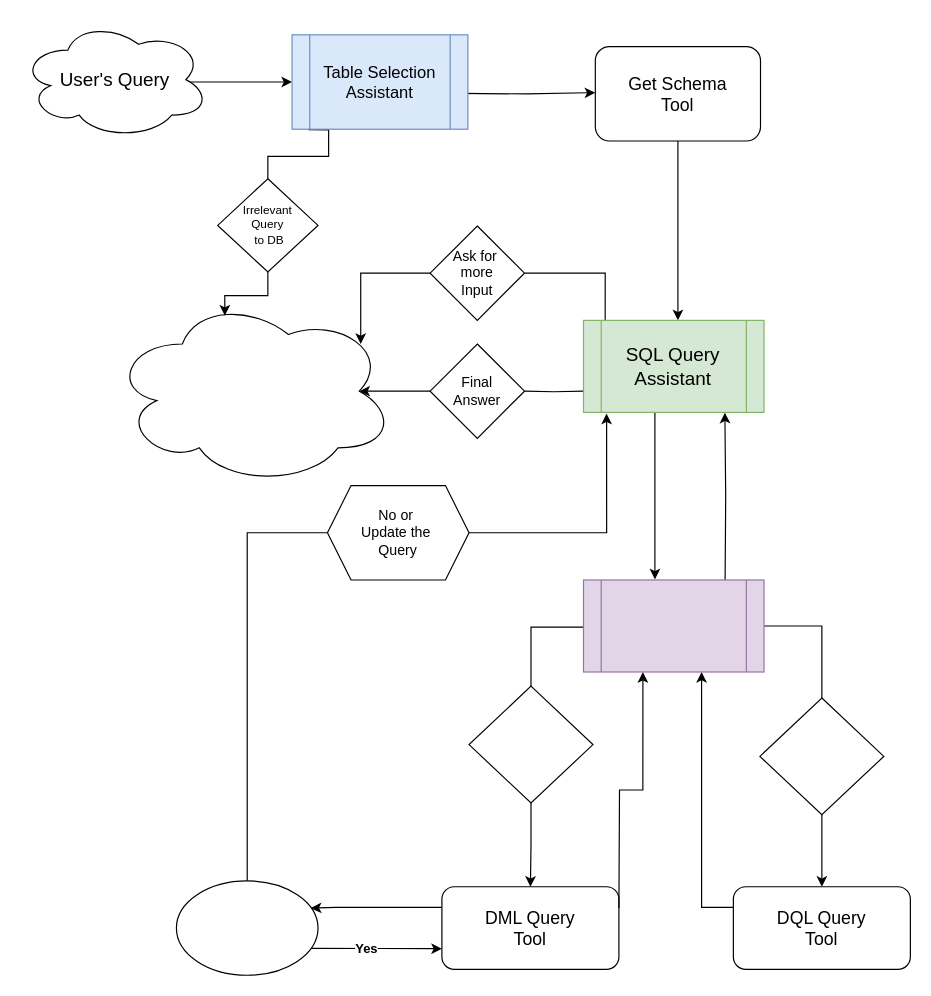
Some shapes in this 931 by 996 pixel diagram are drawn without their labels. The centre of each missing label's shape, as x and y in pixels:
Examine Query Assistant: point (673, 625)
Generate Response: point (252, 391)
If DML, DDL, DCL Query: point (530, 744)
If DQL Query: point (821, 756)
User's Confirmation: point (246, 927)
